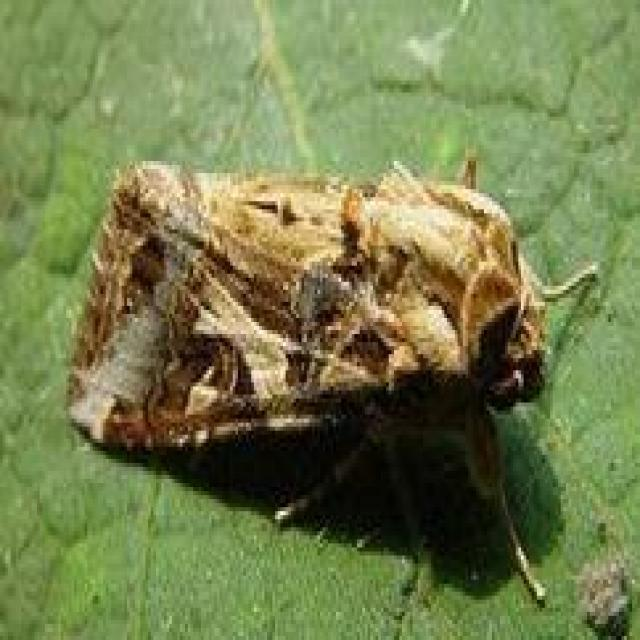BeetArmyWorm-Adult-: (56, 132, 578, 548)
